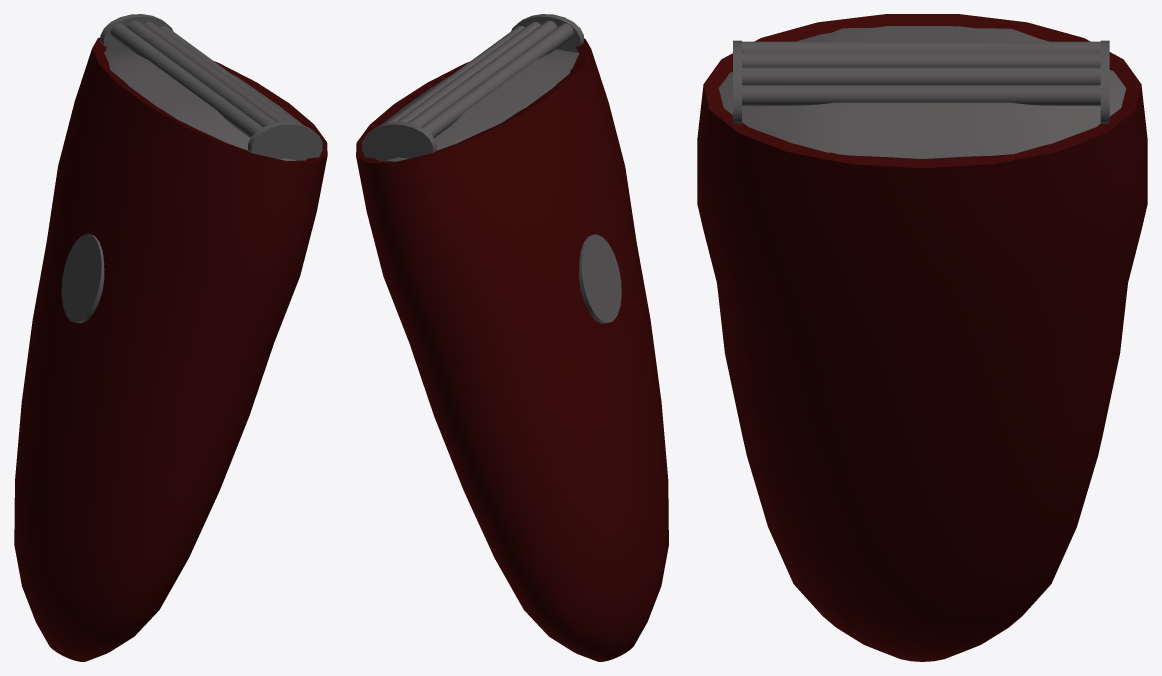
The model's file is Razor.fbx.
3 views of the same model, side by side, from view 1: azimuth 30°, elevation 25°; view 2: azimuth 150°, elevation 25°; view 3: azimuth 270°, elevation 25° (orthographic). The views are drawn at different scales.
Visible parts, largest first — view 1: pSphere3; view 2: pSphere3; view 3: pSphere3.
Boxes of the visible parts, x1,y1,x2,y2 form: pSphere3: (14,14,327,661); pSphere3: (356,14,668,661); pSphere3: (697,14,1147,661).
Bounding box in the file's own units: 1.96 × 4.12 × 2.44.
